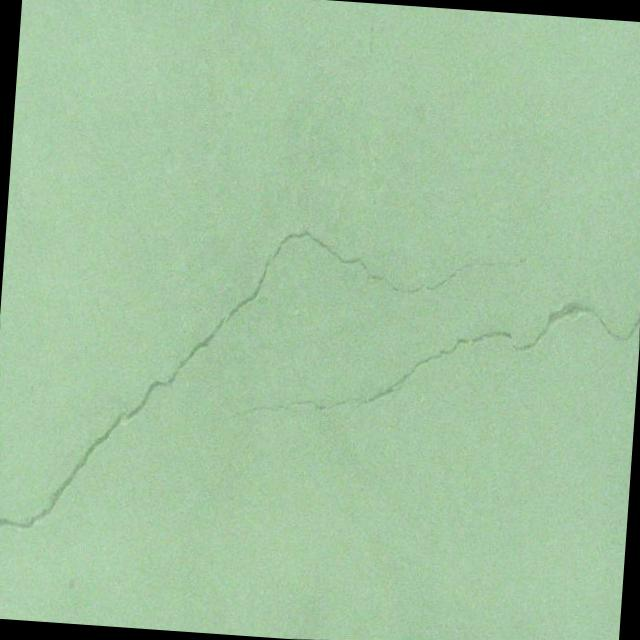crack: (0, 125, 545, 567), (230, 276, 640, 448), (360, 2, 383, 76), (322, 413, 339, 430)
